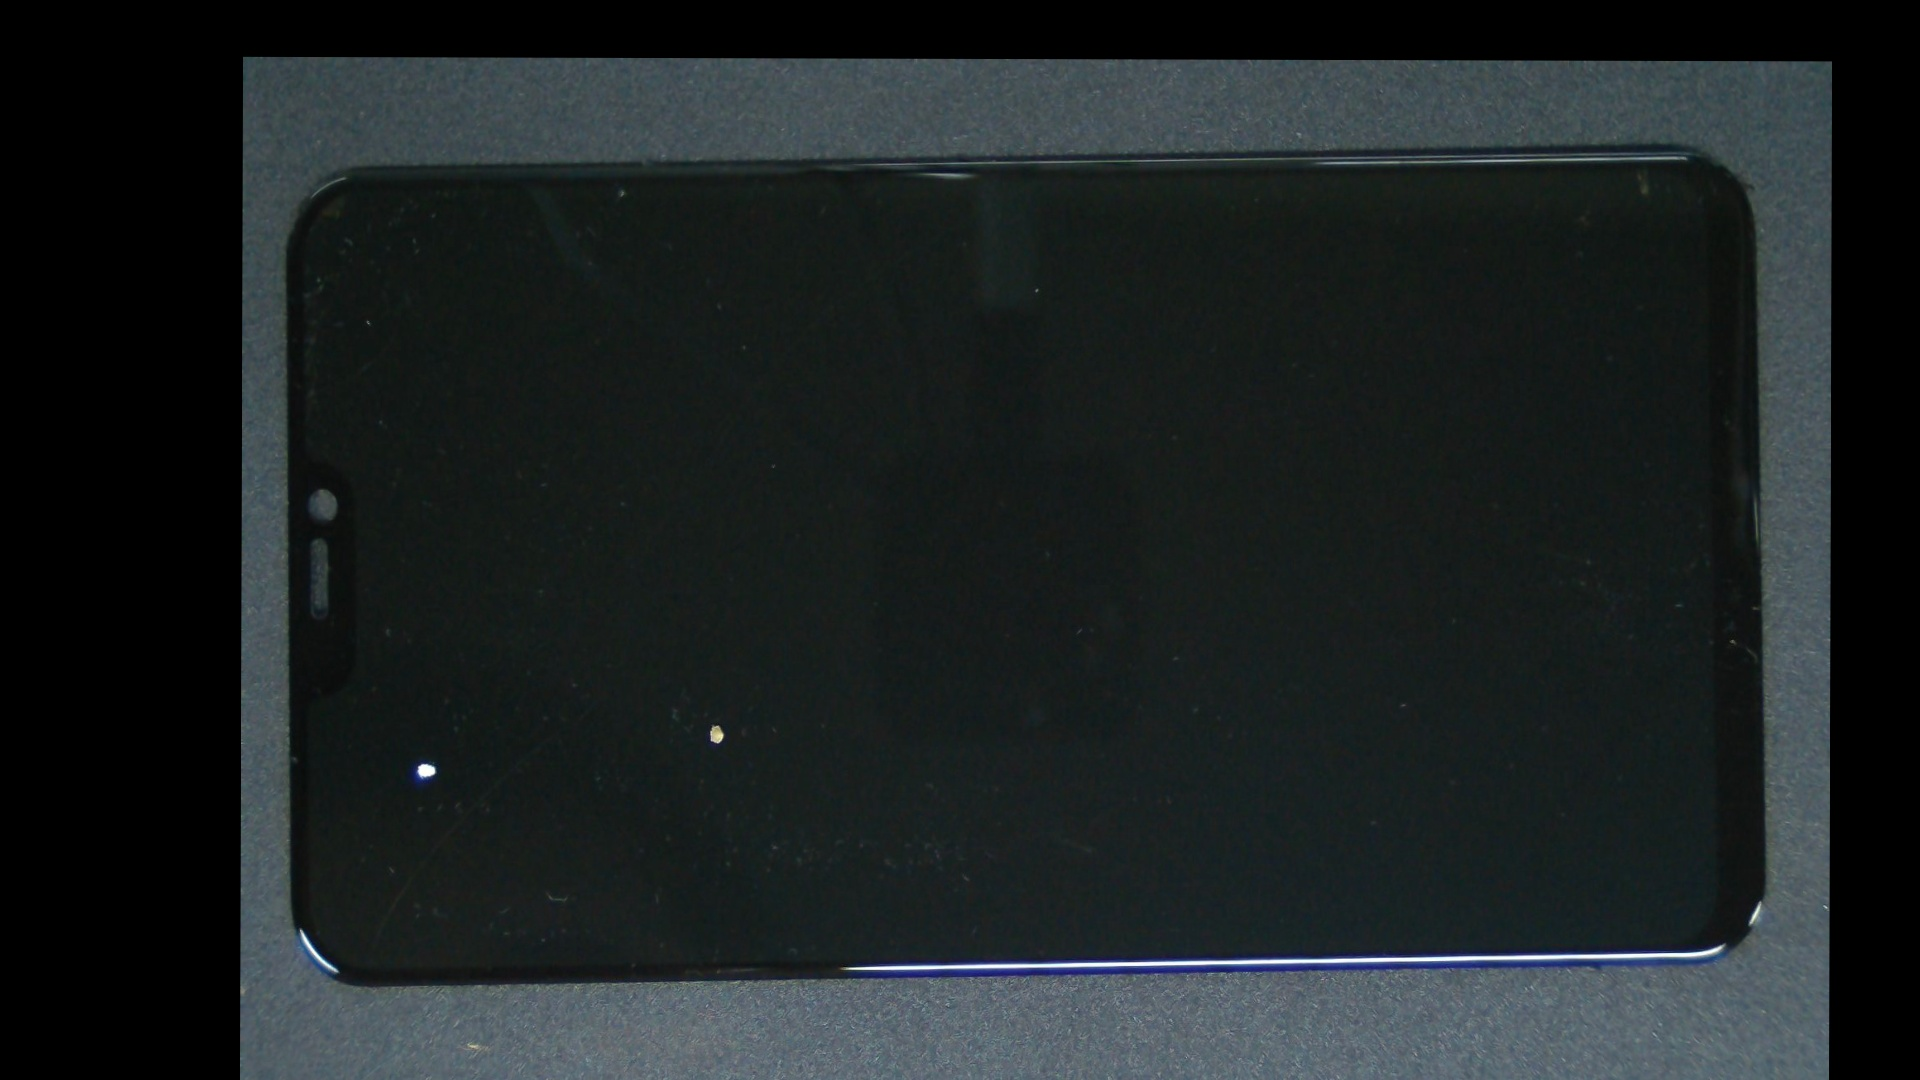oil: (476, 390, 947, 1058), (332, 409, 516, 1080)
